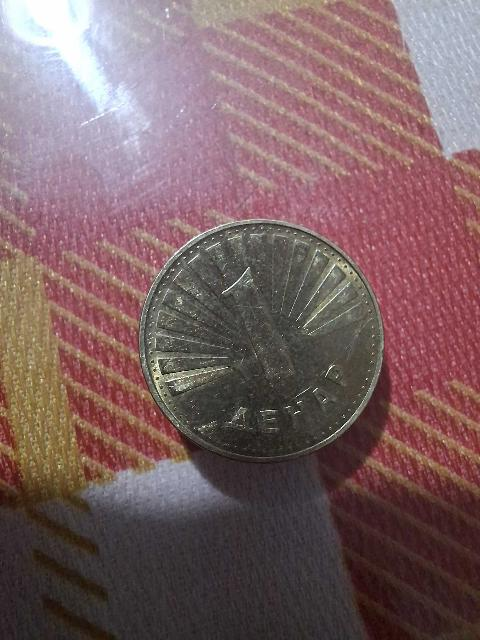1_coin: (140, 220, 383, 461)
